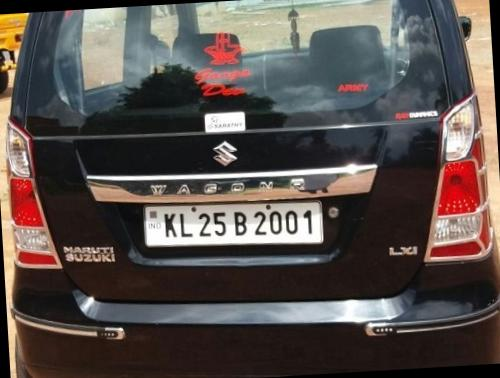plate: (145, 195, 328, 256)
